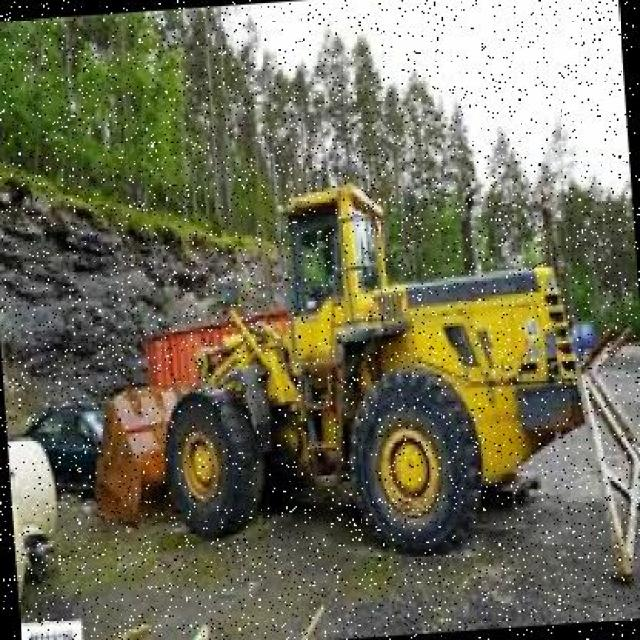buldozerpayloadergrader: (140, 176, 598, 562)
